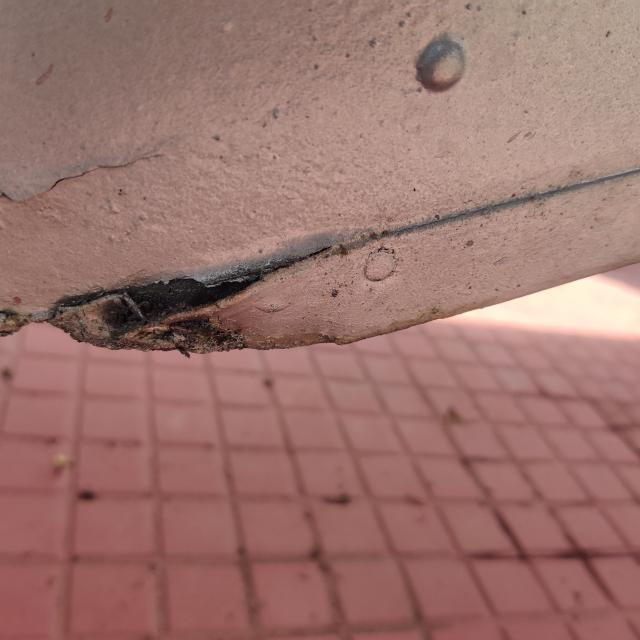crack: (87, 241, 276, 358)
